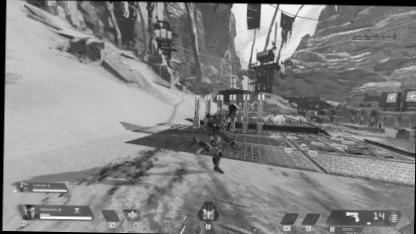Target: (200, 102, 240, 172)
